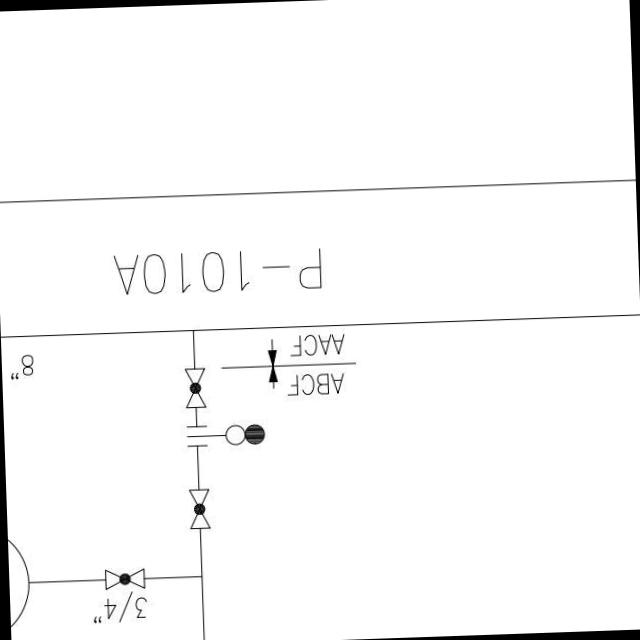BV2: (96, 561, 150, 596), (179, 363, 208, 416), (185, 484, 214, 535)
